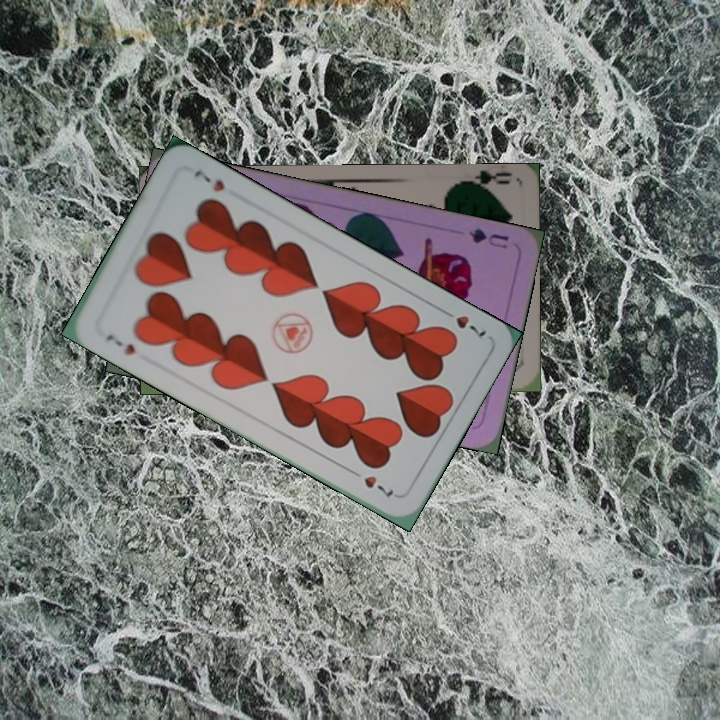GO: (454, 170, 513, 197)
GU: (465, 224, 511, 251)
H7: (436, 304, 489, 340), (101, 329, 138, 358)
